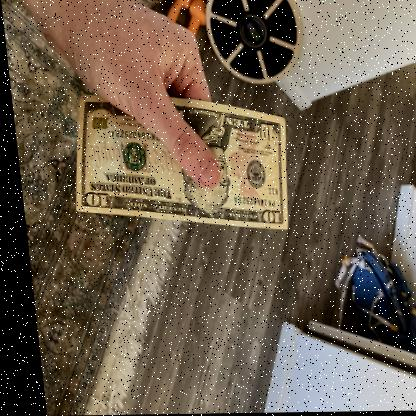ten-front: (74, 94, 291, 234)
